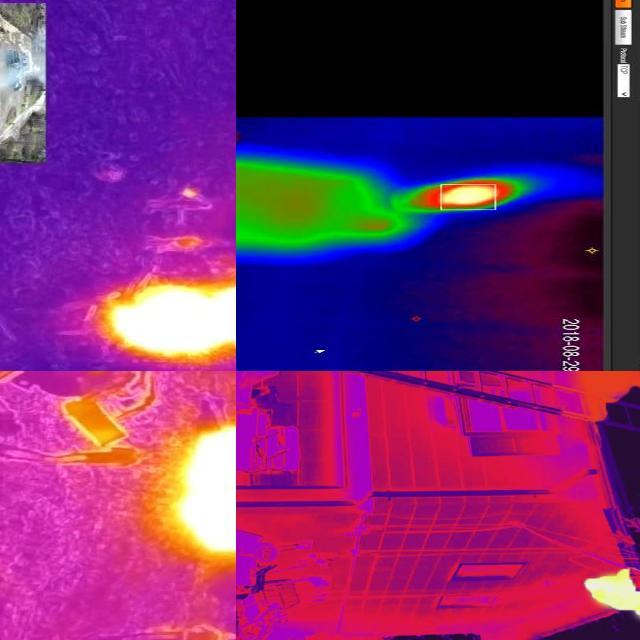fire: (100, 276, 237, 364), (168, 425, 237, 555), (561, 535, 640, 640), (392, 174, 542, 214)
